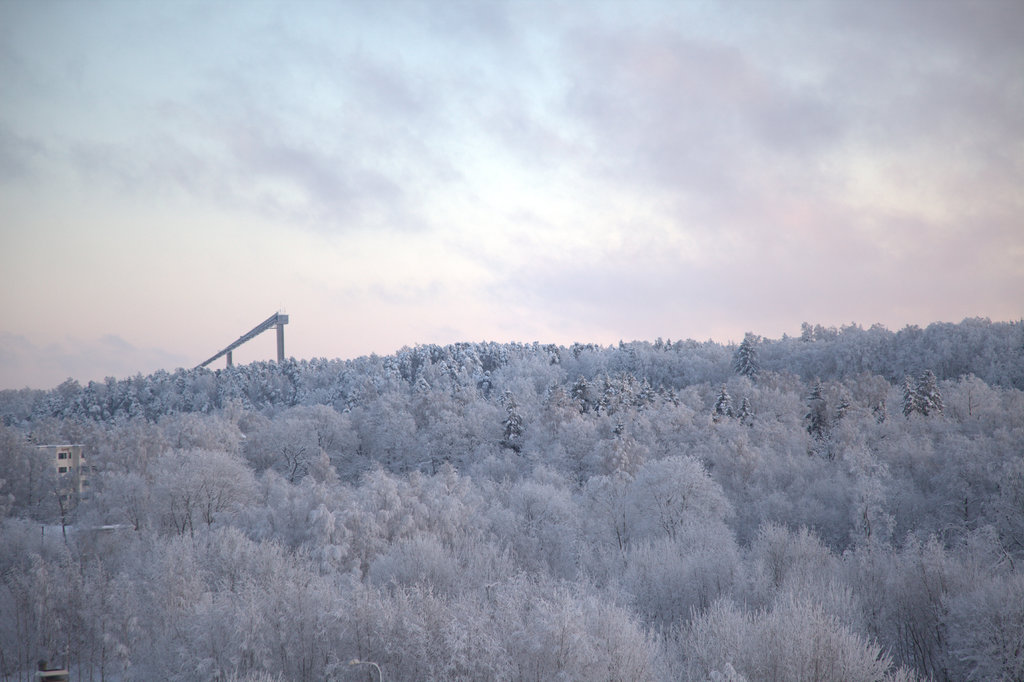Tree: (0, 323, 1023, 681)
